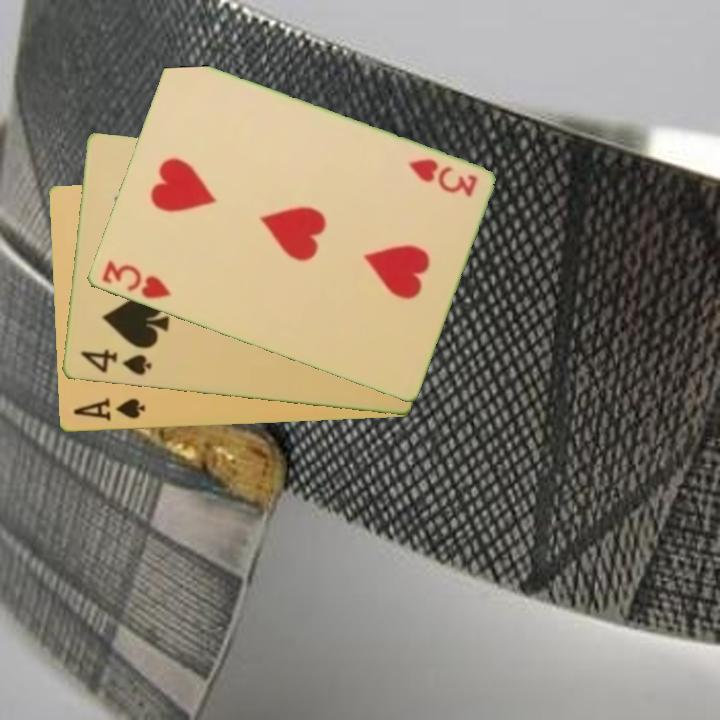3h: (403, 155, 480, 200), (98, 257, 174, 302)
4s: (77, 346, 154, 379)
As: (69, 395, 148, 425)
